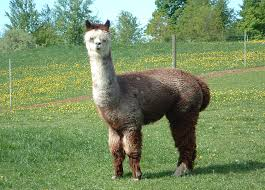alpaca: (84, 19, 210, 182)
